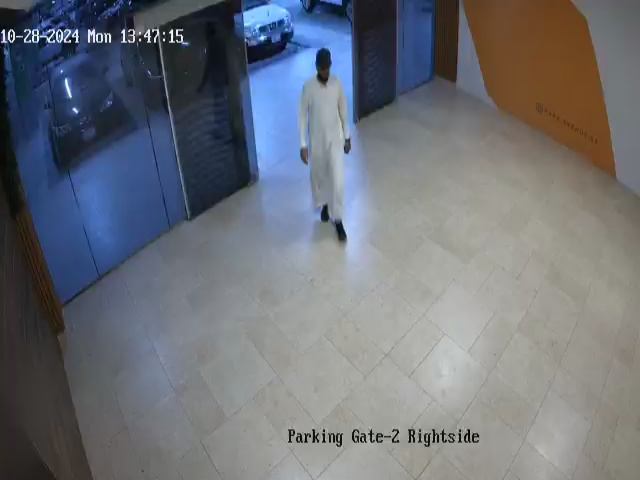male: (298, 47, 352, 242)
